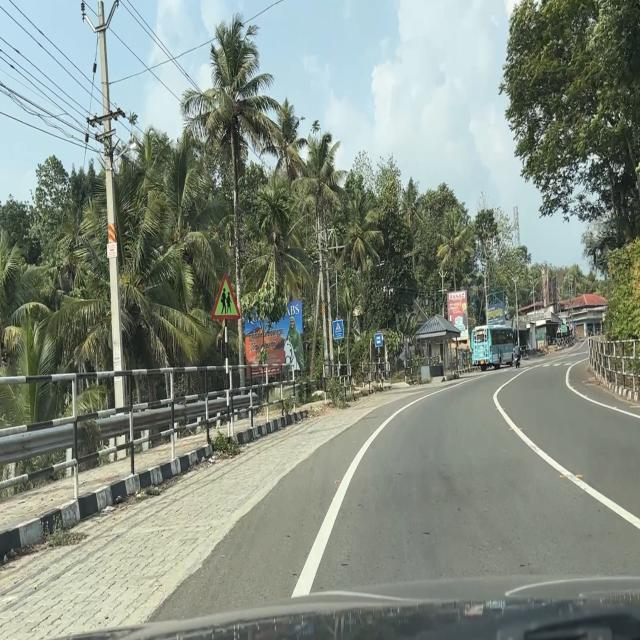INFORMATION: (374, 333, 383, 347)
PEDESTRIAN_CROSSING: (333, 319, 344, 340)
SCHOOL_AHEAD: (210, 272, 240, 321)
